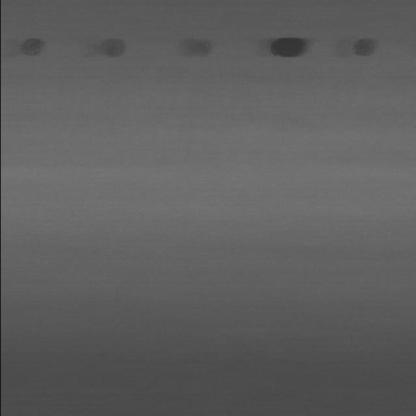oil_spot: (256, 34, 319, 65), (341, 35, 390, 65), (95, 34, 134, 64), (178, 37, 217, 63), (18, 37, 54, 61)
